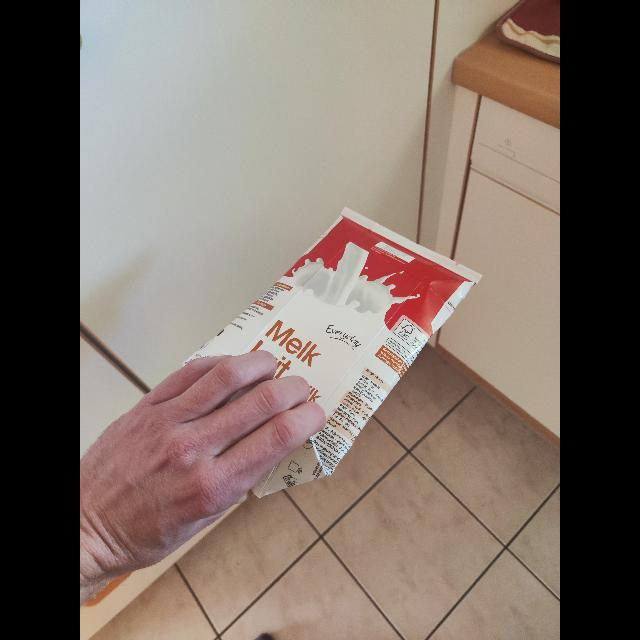Cardboard: (178, 205, 486, 499)
